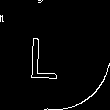L_N: (39, 29, 71, 81)
